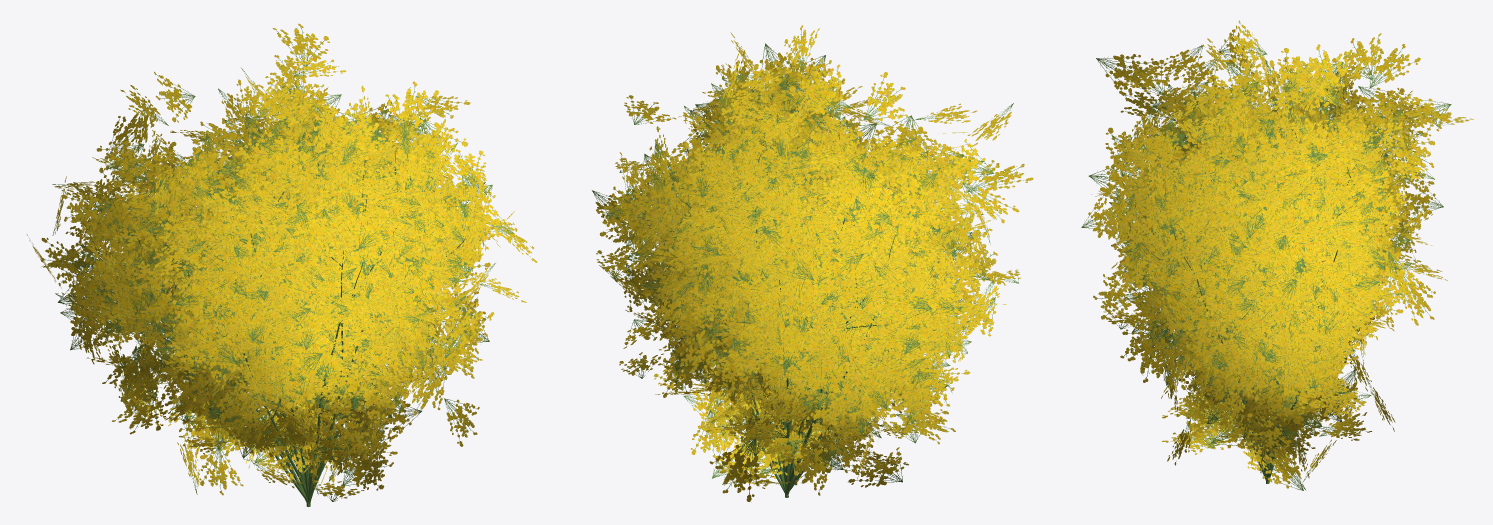
Rendered from BR2_Broom_InFlower_2m.glb.
3 views of the same model, side by side, from view 1: azimuth 30°, elevation 25°; view 2: azimuth 150°, elevation 25°; view 3: azimuth 270°, elevation 25° (orthographic). The views are drawn at different scales.
Visible parts, largest first — view 1: BR2_leaves, BR2_wood; view 2: BR2_leaves, BR2_wood; view 3: BR2_leaves, BR2_wood.
Boxes of the visible parts, <box> form: BR2_leaves: <box>27,23,537,501</box>; BR2_wood: <box>100,120,465,506</box>; BR2_leaves: <box>592,25,1033,501</box>; BR2_wood: <box>652,90,950,497</box>; BR2_leaves: <box>1081,20,1473,490</box>; BR2_wood: <box>1135,115,1387,483</box>.
Bounding box in the file's own units: 1.95 × 2.04 × 1.59.
Materials: 2 (2 with a texture image).
